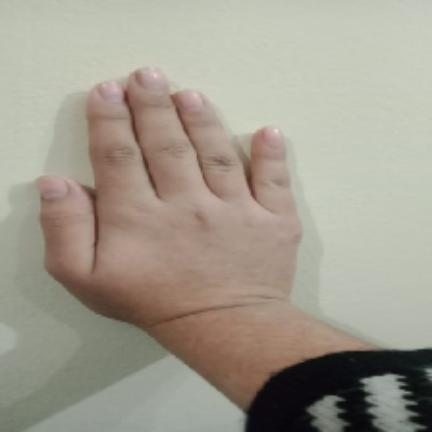Nail: (38, 175, 68, 199), (135, 68, 165, 89), (98, 81, 122, 103), (178, 91, 204, 110), (262, 127, 283, 148)
